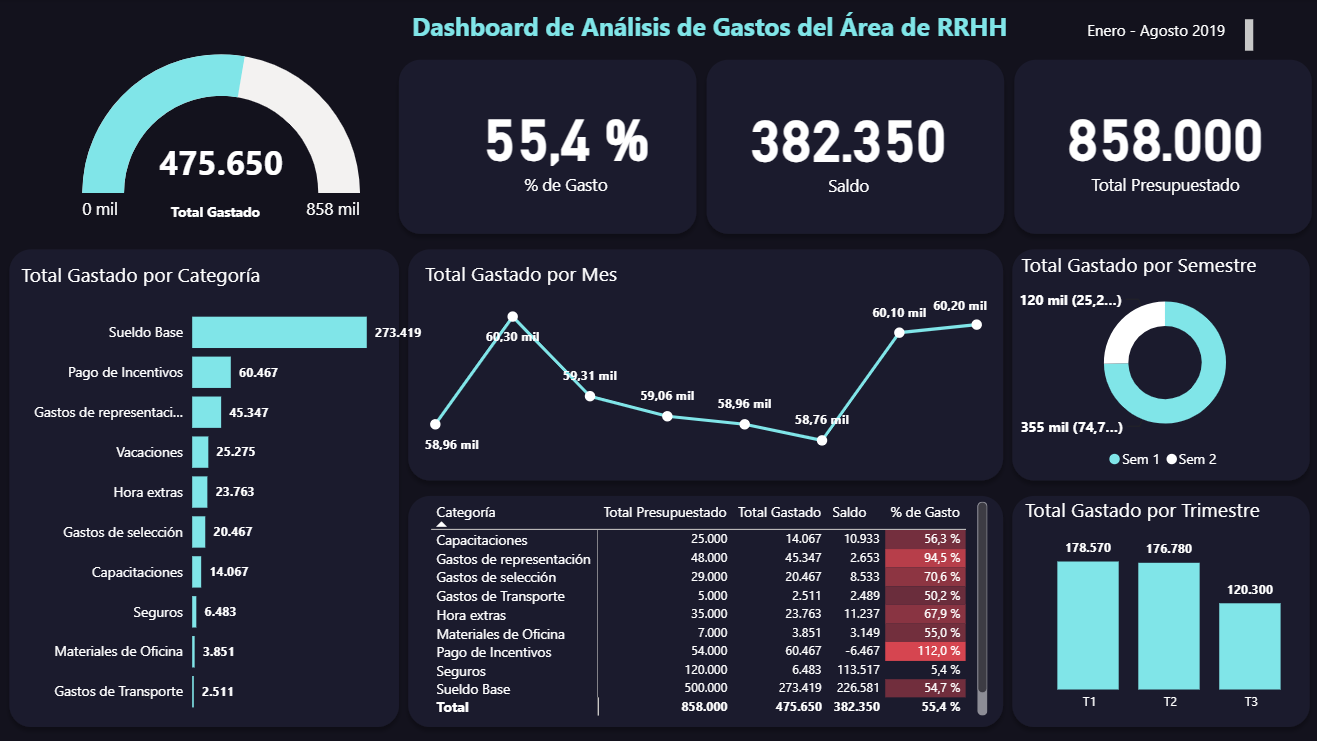

Layout of this report page (visuals, bound fields, positions):
{"tool":"powerbi","page":{"name":"Página 1","canvas":[1280,720],"ordinal":0},"visuals":[{"type":"gauge","fields":{"Y":["Gastos1.Total Gastado"],"MaxValue":["Presupuesto2.Total Presupuestado"]},"box":[31,49.7,374.2,175.6],"z":0},{"type":"textbox","box":[58.8,191.2,307.5,37.5],"z":1000},{"type":"card","fields":{"Values":["Gastos1.% de Gasto"]},"box":[366.2,50,368.8,183.8],"z":2000},{"type":"card","fields":{"Values":["Gastos1.Saldo"]},"box":[639.5,50.8,369.1,183.9],"z":3000},{"type":"card","fields":{"Values":["Presupuesto2.Total Presupuestado"]},"box":[989.4,74.1,281.3,135.8],"z":4000},{"type":"clusteredBarChart","fields":{"Category":["Presupuesto2.Categoría"],"Y":["Gastos1.Total Gastado"]},"box":[20,255,396.2,451.2],"z":5000},{"type":"lineChart","title":"Total Gastado por Mes","fields":{"Category":["Calendario.Mes Num"],"Y":["Gastos1.Total Gastado"]},"box":[410,253.8,552.5,200],"z":6000},{"type":"pivotTable","fields":{"Rows":["Presupuesto2.Categoría"],"Values":["Presupuesto2.Total Presupuestado","Gastos1.Total Gastado","Gastos1.Saldo","Gastos1.% de Gasto"]},"box":[416.2,481.2,546.2,216.2],"z":7000},{"type":"donutChart","fields":{"Category":["Calendario.Semestre"],"Y":["Gastos1.Total Gastado"]},"box":[986.2,245,287.5,218.8],"z":8000},{"type":"clusteredColumnChart","fields":{"Y":["Gastos1.Total Gastado"],"Category":["Calendario.Trimestre"]},"box":[988.8,481.2,291.2,216.2],"z":9000},{"type":"textbox","box":[387.5,6.2,605,45],"z":10000},{"type":"textbox","box":[1050,16.2,170,43.8],"z":11000}]}

Visuals, with their boxes in screenshot pixels (x1, y1, x2, y2), scaled from the page's 1280x720 canvas onto the 1317x741 screenshot:
gauge - Gastos1.Total Gastado x Presupuesto2.Total Presupuestado: locate(32, 51, 417, 232)
textbox: locate(60, 197, 377, 235)
card - Gastos1.% de Gasto: locate(377, 51, 756, 241)
card - Gastos1.Saldo: locate(658, 52, 1038, 242)
card - Presupuesto2.Total Presupuestado: locate(1018, 76, 1307, 216)
clusteredBarChart - Presupuesto2.Categoría x Gastos1.Total Gastado: locate(21, 262, 428, 727)
"Total Gastado por Mes" lineChart: locate(422, 261, 990, 467)
pivotTable - Presupuesto2.Categoría x Presupuesto2.Total Presupuestado: locate(428, 495, 990, 718)
donutChart - Calendario.Semestre x Gastos1.Total Gastado: locate(1015, 252, 1311, 477)
clusteredColumnChart - Gastos1.Total Gastado x Calendario.Trimestre: locate(1017, 495, 1316, 718)
textbox: locate(399, 6, 1021, 53)
textbox: locate(1080, 17, 1255, 62)
